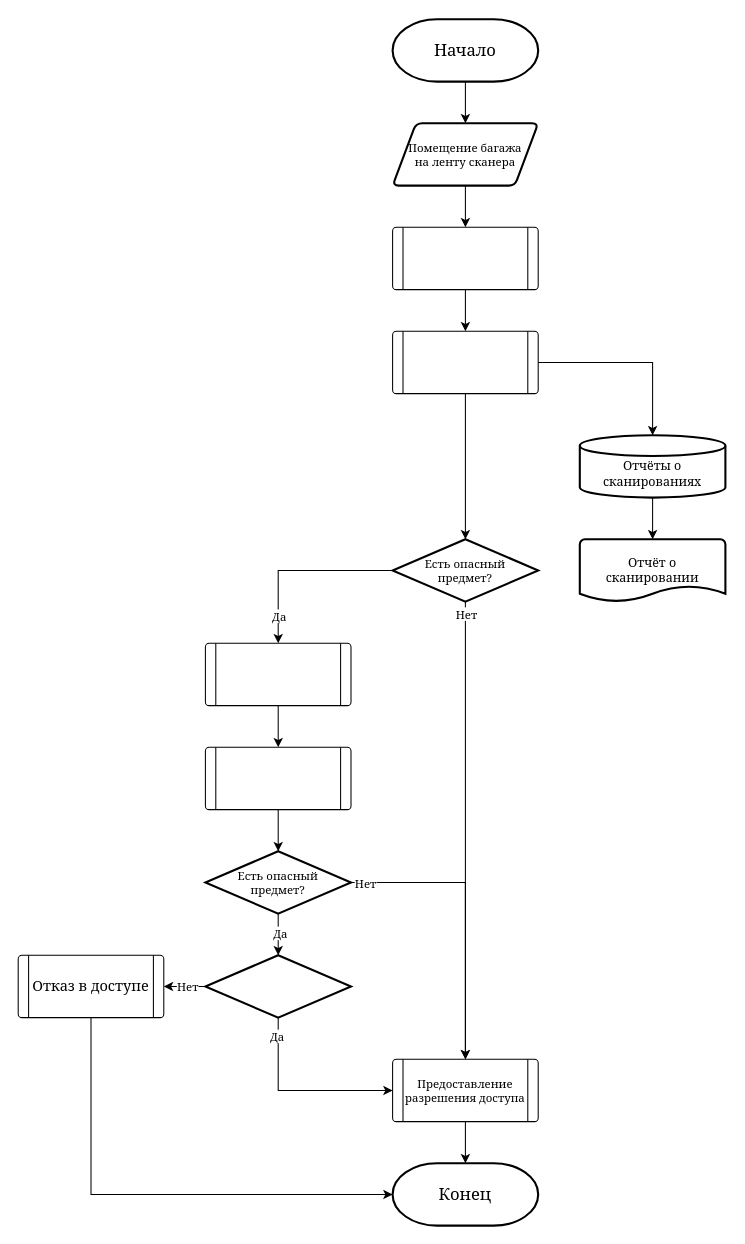
The diagram is 745 pixels wide and 1244 high, and some of its shapes have lost their labels. The shapes that lost their labels are listed below. From the top down, each one's box as (x1, y1, x2, y2) in pixels, then its label:
(392, 226, 538, 290): Проверка наличия опасных предметов
(392, 330, 538, 394): Формирование снимка багажа
(204, 642, 351, 706): Оповещение оператора
(204, 746, 351, 810): Дополнительный осмотр багажа оператором
(204, 954, 352, 1018): Пассажир согласен на конфискацию?
